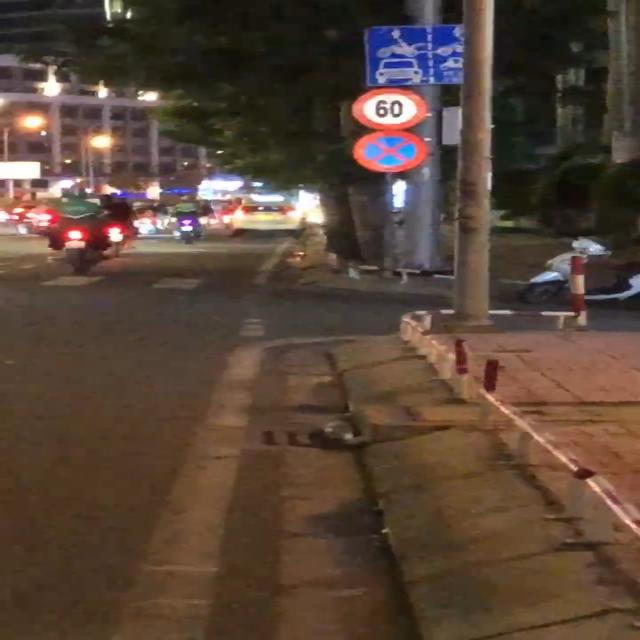Bien bao cam dung xe va do xe: (345, 128, 432, 176)
Bien bao toc do toi da cho phep: (347, 86, 432, 130)
